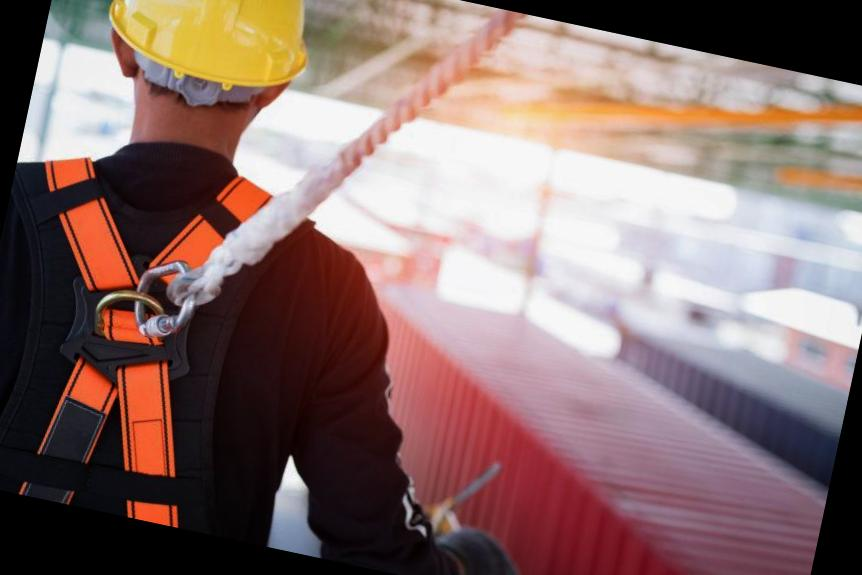helmet: (86, 0, 326, 124)
no_vest: (0, 125, 406, 560)
person: (0, 0, 484, 567)
